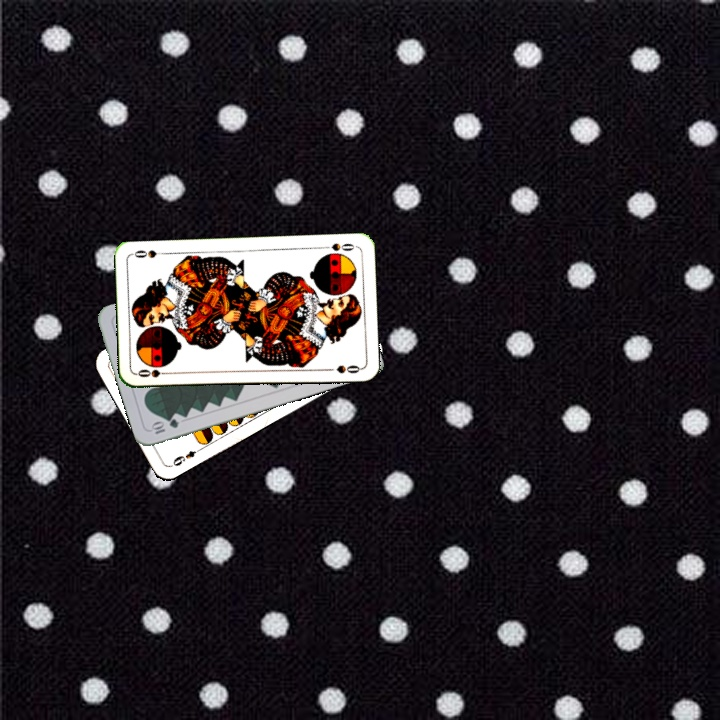E9: (169, 443, 205, 469)
G10: (147, 415, 181, 437)
SO: (134, 365, 174, 380), (318, 239, 358, 254)
